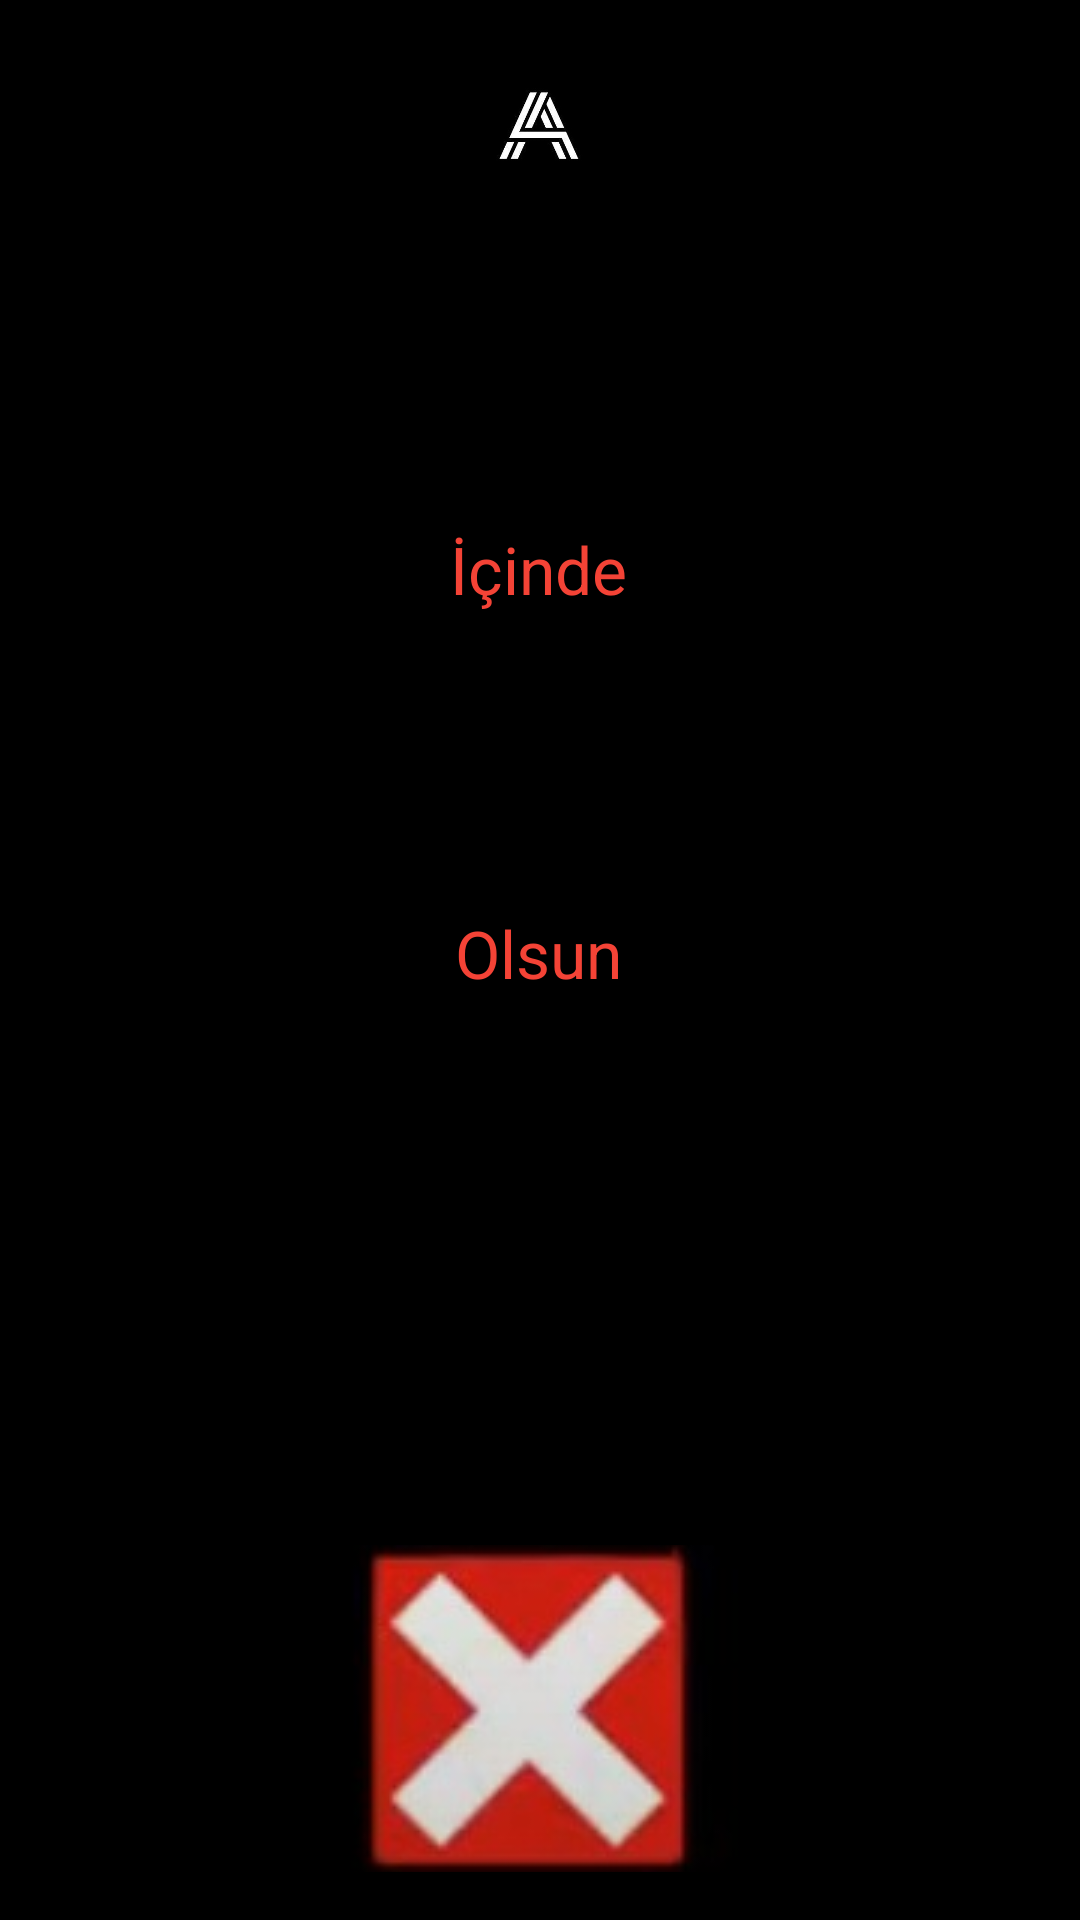

Icon click points for this 1080 x 1920 phone screenshot, format (x,y):
loggo: (539,125)
